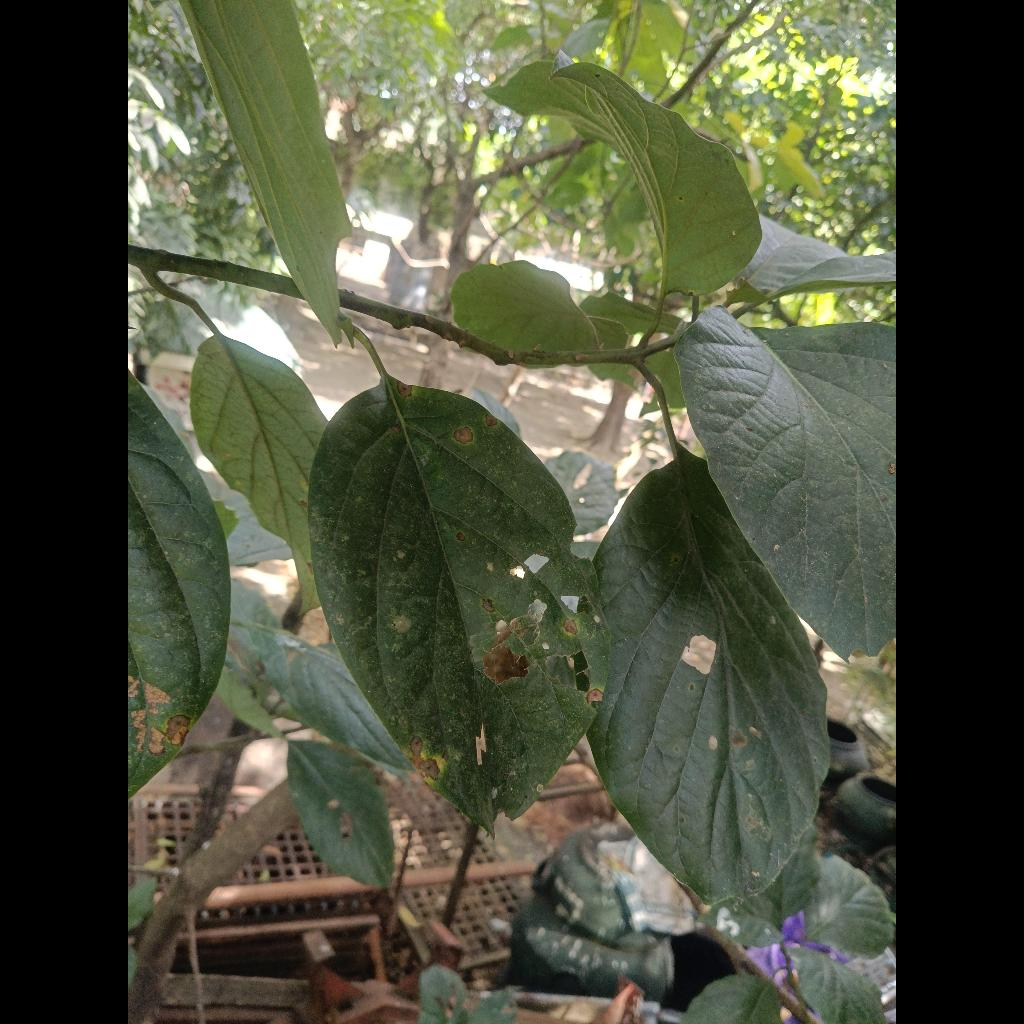plaga: (308, 377, 610, 830), (590, 448, 828, 902)
